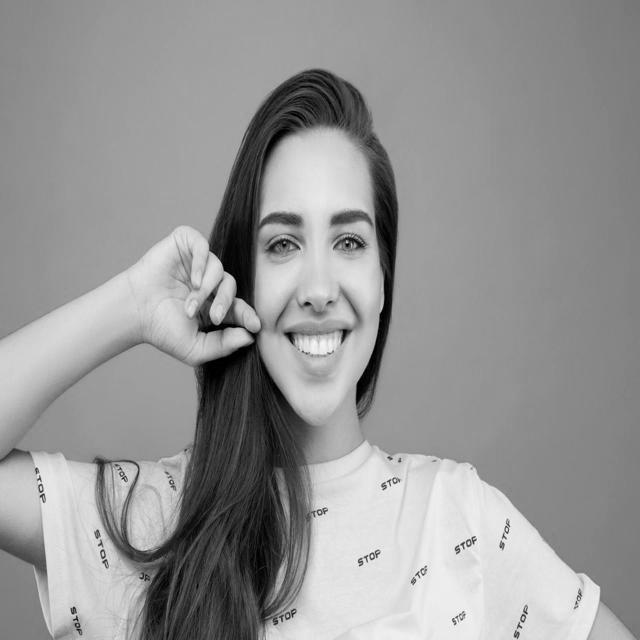Happiness: (250, 123, 385, 432)
